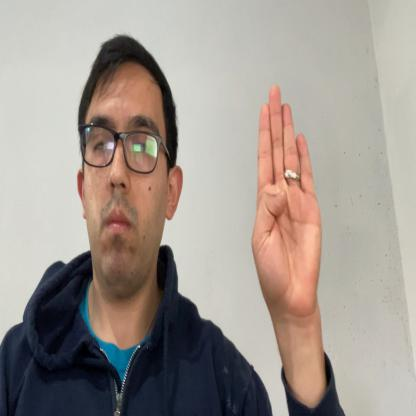B: (251, 83, 321, 317)
